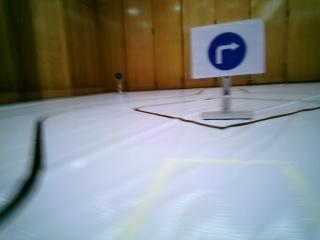right: (188, 26, 264, 74)
